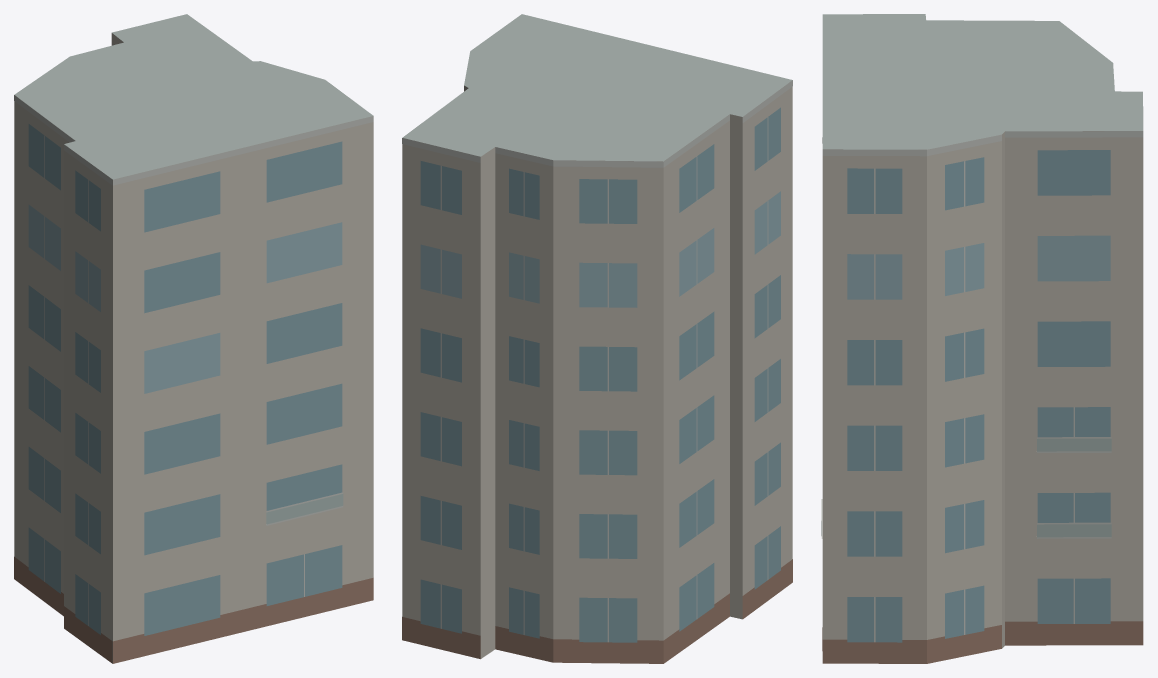
File: survey-upis-32633764.glb
The picture shows the model from 3 angles, left to right: view 1: azimuth 30°, elevation 25°; view 2: azimuth 150°, elevation 25°; view 3: azimuth 270°, elevation 25°; orthographic projection. The views are drawn at different scales.
Visible parts, largest first — view 1: survey-upis-32633764.tmp; view 2: survey-upis-32633764.tmp; view 3: survey-upis-32633764.tmp.
Part boxes in pixels (x1,y1,x2,y2): survey-upis-32633764.tmp: (14, 14, 373, 663); survey-upis-32633764.tmp: (402, 14, 792, 663); survey-upis-32633764.tmp: (821, 14, 1143, 663).
Size of the model in its own units: 11.05 by 19.5 by 11.07.
